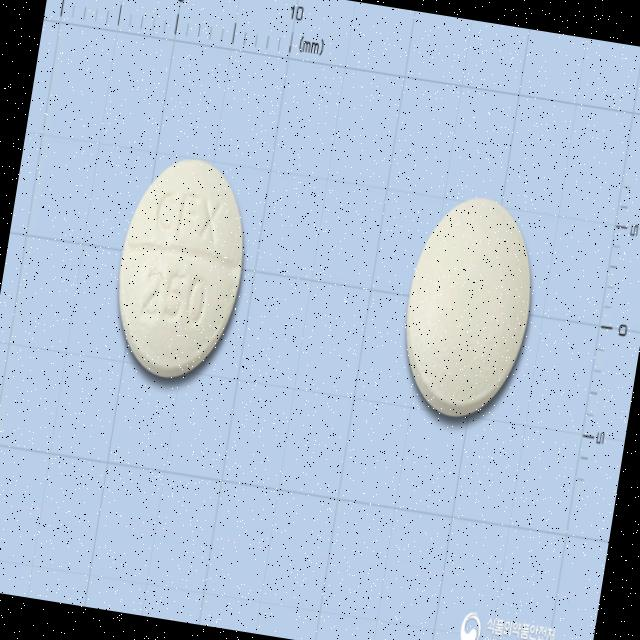Ciprofloxacin Tab- Pharma: (385, 180, 553, 434), (101, 142, 266, 396)
